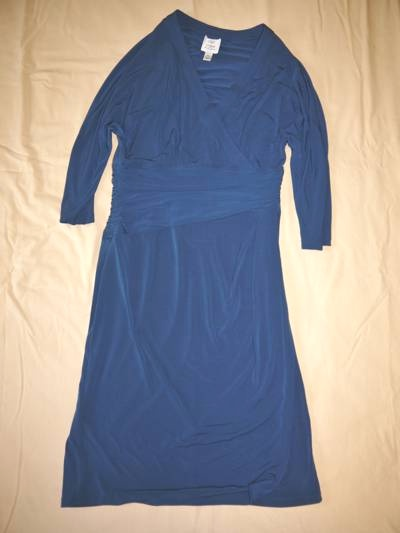Dress: (34, 8, 348, 516)
